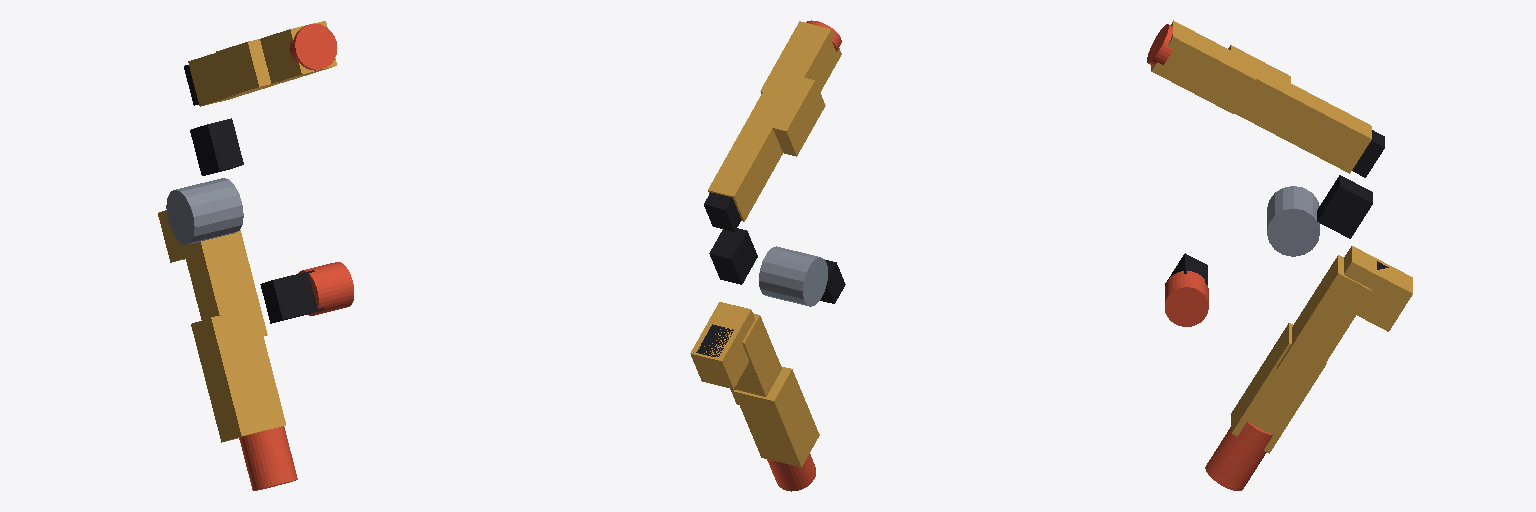
robot.urdf — g0036_c15:
<robot name="g0036_c15">
  <link name="palm">
    <visual name="palm_palm1">
      <origin xyz="0 0 0" rpy="0 0 0" />
      <geometry>
        <mesh filename="palm_palm1.obj" />
      </geometry>
      <material name="palm_palm1_mat">
        <color rgba="0.55 0.57 0.62 1" />
      </material>
    </visual>
    <collision>
      <origin xyz="0 0 0" rpy="0 0 0" />
      <geometry>
        <mesh filename="palm_palm1.obj" />
      </geometry>
    </collision>
    <visual name="palm_mount2">
      <origin xyz="0 0 0" rpy="0 0 0" />
      <geometry>
        <mesh filename="palm_mount2.obj" />
      </geometry>
      <material name="palm_mount2_mat">
        <color rgba="0.55 0.57 0.62 1" />
      </material>
    </visual>
    <collision>
      <origin xyz="0 0 0" rpy="0 0 0" />
      <geometry>
        <mesh filename="palm_mount2.obj" />
      </geometry>
    </collision>
    <visual name="palm_hinge3">
      <origin xyz="0 0.0385705081 0.0268060797" rpy="-1.57079633 0.523598776 1.57079633" />
      <geometry>
        <box size="0.029 0.034 0.02" />
      </geometry>
      <material name="palm_hinge3_mat">
        <color rgba="0.15 0.15 0.17 1" />
      </material>
    </visual>
    <collision>
      <origin xyz="0 0.0385705081 0.0268060797" rpy="-1.57079633 0.523598776 1.57079633" />
      <geometry>
        <box size="0.029 0.034 0.02" />
      </geometry>
    </collision>
    <visual name="palm_motor4">
      <origin xyz="-0.007 -0.08 -0.04" rpy="1.06057524e-16 -1.04719755 1.57079633" />
      <geometry>
        <box size="0.029 0.034 0.02" />
      </geometry>
      <material name="palm_motor4_mat">
        <color rgba="0.15 0.15 0.17 1" />
      </material>
    </visual>
    <collision>
      <origin xyz="-0.007 -0.08 -0.04" rpy="1.06057524e-16 -1.04719755 1.57079633" />
      <geometry>
        <box size="0.029 0.034 0.02" />
      </geometry>
    </collision>
    <visual name="palm_motor5">
      <origin xyz="-0.0045 0.0666996732 -0.0467548095" rpy="1.57079633 -0.523598776 -1.57079633" />
      <geometry>
        <box size="0.029 0.034 0.02" />
      </geometry>
      <material name="palm_motor5_mat">
        <color rgba="0.15 0.15 0.17 1" />
      </material>
    </visual>
    <collision>
      <origin xyz="-0.0045 0.0666996732 -0.0467548095" rpy="1.57079633 -0.523598776 -1.57079633" />
      <geometry>
        <box size="0.029 0.034 0.02" />
      </geometry>
    </collision>
    <inertial>
      <origin xyz="0 0.00398576647 -0.0188820287" rpy="-1.57079633 0.0346338555 -1.57079633" />
      <mass value="0.648313714" />
      <inertia ixx="0.000579235017" ixy="0" ixz="0" iyy="0.00134270384" iyz="0" izz="0.00185970074" />
    </inertial>
  </link>
  <link name="palm0">
    <visual name="palm0_palm1">
      <origin xyz="0 0 0" rpy="0 0 0" />
      <geometry>
        <mesh filename="palm0_palm1.obj" />
      </geometry>
      <material name="palm0_palm1_mat">
        <color rgba="0.55 0.57 0.62 1" />
      </material>
    </visual>
    <collision>
      <origin xyz="0 0 0" rpy="0 0 0" />
      <geometry>
        <mesh filename="palm0_palm1.obj" />
      </geometry>
    </collision>
    <visual name="palm0_motor2">
      <origin xyz="0 0.00417468245 0.0429487298" rpy="-1.57079633 -1.04719755 1.57079633" />
      <geometry>
        <box size="0.029 0.034 0.02" />
      </geometry>
      <material name="palm0_motor2_mat">
        <color rgba="0.15 0.15 0.17 1" />
      </material>
    </visual>
    <collision>
      <origin xyz="0 0.00417468245 0.0429487298" rpy="-1.57079633 -1.04719755 1.57079633" />
      <geometry>
        <box size="0.029 0.034 0.02" />
      </geometry>
    </collision>
    <inertial>
      <origin xyz="-8.6603943e-19 0.00464778068 0.027797697" rpy="1.57079633 0.747445546 1.57079633" />
      <mass value="0.142632811" />
      <inertia ixx="3.46447455e-05" ixy="0" ixz="0" iyy="7.18476673e-05" iyz="0" izz="9.2799663e-05" />
    </inertial>
  </link>
  <link name="f0_link0">
    <visual name="f0_link0_link1">
      <origin xyz="0.019 0 -6.9388939e-18" rpy="-1.57079633 -0 -1.57079633" />
      <geometry>
        <cylinder radius="0.0165" length="0.029" />
      </geometry>
      <material name="f0_link0_link1_mat">
        <color rgba="0.85 0.35 0.25 1" />
      </material>
    </visual>
    <collision>
      <origin xyz="0.019 0 -6.9388939e-18" rpy="-1.57079633 -0 -1.57079633" />
      <geometry>
        <cylinder radius="0.0165" length="0.029" />
      </geometry>
    </collision>
    <inertial>
      <origin xyz="0.019 0 0" rpy="0 0 0" />
      <mass value="0.0763354" />
      <inertia ixx="9.49466441e-06" ixy="0" ixz="0" iyy="2.24143997e-05" iyz="0" izz="2.24143997e-05" />
    </inertial>
  </link>
  <link name="f1_link0">
    <visual name="f1_link0_link1">
      <origin xyz="-0.00625 0 -0.0165" rpy="0 4.06369831e-17 0" />
      <geometry>
        <box size="0.0365 0.029 0.053" />
      </geometry>
      <material name="f1_link0_link1_mat">
        <color rgba="0.80 0.62 0.30 1" />
      </material>
    </visual>
    <collision>
      <origin xyz="-0.00625 0 -0.0165" rpy="0 4.06369831e-17 0" />
      <geometry>
        <box size="0.0365 0.029 0.053" />
      </geometry>
    </collision>
    <inertial>
      <origin xyz="-0.00625 0 -0.0165" rpy="0 0 0" />
      <mass value="0.098175875" />
      <inertia ixx="2.98618286e-05" ixy="0" ixz="0" iyy="3.38809035e-05" iyz="0" izz="1.778006e-05" />
    </inertial>
  </link>
  <link name="f1_link1">
    <visual name="f1_link1_link1">
      <origin xyz="0.03375 0 6.9388939e-18" rpy="0 4.06369831e-17 0" />
      <geometry>
        <box size="0.0915 0.033 0.029" />
      </geometry>
      <material name="f1_link1_link1_mat">
        <color rgba="0.80 0.62 0.30 1" />
      </material>
    </visual>
    <collision>
      <origin xyz="0.03375 0 6.9388939e-18" rpy="0 4.06369831e-17 0" />
      <geometry>
        <box size="0.0915 0.033 0.029" />
      </geometry>
    </collision>
    <inertial>
      <origin xyz="0.03375 0 0" rpy="0 0 0" />
      <mass value="0.153239625" />
      <inertia ixx="2.46460397e-05" ixy="0" ixz="0" iyy="0.000117652915" iyz="0" izz="0.000120819867" />
    </inertial>
  </link>
  <link name="f1_link2">
    <visual name="f1_link2_link1">
      <origin xyz="0.03125 -0.00625 -6.9388939e-18" rpy="0 4.06369831e-17 0" />
      <geometry>
        <box size="0.0865 0.0365 0.033" />
      </geometry>
      <material name="f1_link2_link1_mat">
        <color rgba="0.80 0.62 0.30 1" />
      </material>
    </visual>
    <collision>
      <origin xyz="0.03125 -0.00625 -6.9388939e-18" rpy="0 4.06369831e-17 0" />
      <geometry>
        <box size="0.0865 0.0365 0.033" />
      </geometry>
    </collision>
    <inertial>
      <origin xyz="0.03125 -0.00625 0" rpy="0 0 0" />
      <mass value="0.182331188" />
      <inertia ixx="3.67891156e-05" ixy="0" ixz="0" iyy="0.000130233849" iyz="0" izz="0.000133929854" />
    </inertial>
  </link>
  <link name="f1_link3">
    <visual name="f1_link3_link1">
      <origin xyz="0.02675 0 -1.38777878e-17" rpy="-1.57079633 -0 -1.57079633" />
      <geometry>
        <cylinder radius="0.0165" length="0.0535" />
      </geometry>
      <material name="f1_link3_link1_mat">
        <color rgba="0.85 0.35 0.25 1" />
      </material>
    </visual>
    <collision>
      <origin xyz="0.02675 0 -1.38777878e-17" rpy="-1.57079633 -0 -1.57079633" />
      <geometry>
        <cylinder radius="0.0165" length="0.0535" />
      </geometry>
    </collision>
    <inertial>
      <origin xyz="0.02675 0 0" rpy="0 0 0" />
      <mass value="0.113006328" />
      <inertia ixx="1.44864944e-05" ixy="0" ixz="0" iyy="6.25996244e-05" iyz="0" izz="6.25996244e-05" />
    </inertial>
  </link>
  <link name="f2_link0">
    <visual name="f2_link0_link1">
      <origin xyz="0.03375 0 0" rpy="0 7.03853194e-17 0" />
      <geometry>
        <box size="0.0915 0.024 0.033" />
      </geometry>
      <material name="f2_link0_link1_mat">
        <color rgba="0.80 0.62 0.30 1" />
      </material>
    </visual>
    <collision>
      <origin xyz="0.03375 0 0" rpy="0 7.03853194e-17 0" />
      <geometry>
        <box size="0.0915 0.024 0.033" />
      </geometry>
    </collision>
    <inertial>
      <origin xyz="0.03375 0 0" rpy="0 0 0" />
      <mass value="0.126819" />
      <inertia ixx="1.75961363e-05" ixy="0" ixz="0" iyy="9.99888553e-05" iyz="0" izz="9.45673431e-05" />
    </inertial>
  </link>
  <link name="f2_link1">
    <visual name="f2_link1_link1">
      <origin xyz="0.014 -0.00625 -1.38777878e-17" rpy="0 7.03853194e-17 0" />
      <geometry>
        <box size="0.052 0.0365 0.033" />
      </geometry>
      <material name="f2_link1_link1_mat">
        <color rgba="0.80 0.62 0.30 1" />
      </material>
    </visual>
    <collision>
      <origin xyz="0.014 -0.00625 -1.38777878e-17" rpy="0 7.03853194e-17 0" />
      <geometry>
        <box size="0.052 0.0365 0.033" />
      </geometry>
    </collision>
    <inertial>
      <origin xyz="0.014 -0.00625 0" rpy="0 0 0" />
      <mass value="0.1096095" />
      <inertia ixx="2.21160002e-05" ixy="0" ixz="0" iyy="3.46457361e-05" iyz="0" izz="3.6867612e-05" />
    </inertial>
  </link>
  <link name="f2_link2">
    <visual name="f2_link2_link1">
      <origin xyz="0.02375 0 -1.38777878e-17" rpy="0 7.03853194e-17 0" />
      <geometry>
        <box size="0.0715 0.029 0.033" />
      </geometry>
      <material name="f2_link2_link1_mat">
        <color rgba="0.80 0.62 0.30 1" />
      </material>
    </visual>
    <collision>
      <origin xyz="0.02375 0 -1.38777878e-17" rpy="0 7.03853194e-17 0" />
      <geometry>
        <box size="0.0715 0.029 0.033" />
      </geometry>
    </collision>
    <inertial>
      <origin xyz="0.02375 0 0" rpy="0 0 0" />
      <mass value="0.119744625" />
      <inertia ixx="1.92589272e-05" ixy="0" ixz="0" iyy="6.18805296e-05" iyz="0" izz="5.94058074e-05" />
    </inertial>
  </link>
  <link name="f2_link3">
    <visual name="f2_link3_link1">
      <origin xyz="0.009 0 0" rpy="-1.57079633 -0 -1.57079633" />
      <geometry>
        <cylinder radius="0.0165" length="0.009" />
      </geometry>
      <material name="f2_link3_link1_mat">
        <color rgba="0.85 0.35 0.25 1" />
      </material>
    </visual>
    <collision>
      <origin xyz="0.009 0 0" rpy="-1.57079633 -0 -1.57079633" />
      <geometry>
        <cylinder radius="0.0165" length="0.009" />
      </geometry>
    </collision>
    <inertial>
      <origin xyz="0.009 0 0" rpy="0 0 0" />
      <mass value="0.046399949" />
      <inertia ixx="5.41970115e-06" ixy="0" ixz="0" iyy="7.09430898e-06" iyz="0" izz="7.09430898e-06" />
    </inertial>
  </link>
  <joint name="palm0_joint" type="revolute">
    <parent link="palm" />
    <child link="palm0" />
    <origin xyz="0 0.0423205081 0.0333012702" rpy="0 0 0" />
    <axis xyz="0 0.866025404 -0.5" />
    <limit effort="0.5" lower="-0.523598776" upper="0.523598776" velocity="5" />
    <dynamics damping="0.0775033" friction="0" />
  </joint>
  <joint name="f0_j0" type="revolute">
    <parent link="palm" />
    <child link="f0_link0" />
    <origin xyz="0.0005 -0.08 -0.04" rpy="1.04719755 5.30287619e-17 -3.061617e-17" />
    <axis xyz="0 1 6.123234e-17" />
    <limit effort="0.5" lower="-0.523598776" upper="0.523598776" velocity="5" />
    <dynamics damping="0.0775033" friction="0" />
  </joint>
  <joint name="f1_j0" type="revolute">
    <parent link="palm" />
    <child link="f1_link0" />
    <origin xyz="-0.0045 0.04 -0.04" rpy="0 1.04719755 -1.57079633" />
    <axis xyz="0 0 1" />
    <limit effort="0.5" lower="-0.523598776" upper="1.57079633" velocity="5" />
    <dynamics damping="0.0775033" friction="0" />
  </joint>
  <joint name="f1_j1" type="revolute">
    <parent link="f1_link0" />
    <child link="f1_link1" />
    <origin xyz="0 0 0" rpy="0 0 0" />
    <axis xyz="0 1 6.123234e-17" />
    <limit effort="0.5" lower="-0.523598776" upper="0.523598776" velocity="5" />
    <dynamics damping="0.0775033" friction="0" />
  </joint>
  <joint name="f1_j2" type="revolute">
    <parent link="f1_link1" />
    <child link="f1_link2" />
    <origin xyz="0.07 0 0" rpy="0 0 0" />
    <axis xyz="0 0 1" />
    <limit effort="0.5" lower="-0.523598776" upper="1.57079633" velocity="5" />
    <dynamics damping="0.0775033" friction="0" />
  </joint>
  <joint name="f1_j3" type="revolute">
    <parent link="f1_link2" />
    <child link="f1_link3" />
    <origin xyz="0.06 0 0" rpy="0 0 0" />
    <axis xyz="1 0 6.123234e-17" />
    <limit effort="0.5" lower="-1.57079633" upper="1.57079633" velocity="5" />
    <dynamics damping="0.0775033" friction="0" />
  </joint>
  <joint name="f2_j0" type="revolute">
    <parent link="palm0" />
    <child link="f2_link0" />
    <origin xyz="0 -0.00232050808 0.0466987298" rpy="-0 -0.523598776 -1.57079633" />
    <axis xyz="0 0 1" />
    <limit effort="0.5" lower="-0.523598776" upper="1.57079633" velocity="5" />
    <dynamics damping="0.0775033" friction="0" />
  </joint>
  <joint name="f2_j1" type="revolute">
    <parent link="f2_link0" />
    <child link="f2_link1" />
    <origin xyz="0.07 0 0" rpy="0 0 0" />
    <axis xyz="0 0 1" />
    <limit effort="0.5" lower="-0.523598776" upper="1.57079633" velocity="5" />
    <dynamics damping="0.0775033" friction="0" />
  </joint>
  <joint name="f2_j2" type="revolute">
    <parent link="f2_link1" />
    <child link="f2_link2" />
    <origin xyz="0.03 0 0" rpy="0 0 0" />
    <axis xyz="0 0 1" />
    <limit effort="0.5" lower="-0.523598776" upper="1.57079633" velocity="5" />
    <dynamics damping="0.0775033" friction="0" />
  </joint>
  <joint name="f2_j3" type="revolute">
    <parent link="f2_link2" />
    <child link="f2_link3" />
    <origin xyz="0.05 0 0" rpy="0 0 0" />
    <axis xyz="-0 -1 -6.123234e-17" />
    <limit effort="0.5" lower="-0.523598776" upper="0.523598776" velocity="5" />
    <dynamics damping="0.0775033" friction="0" />
  </joint>
</robot>

--- What the picture shows (computed from the rendered views, not written in the file) ---
Views: 3 orthographic renders of the robot side by side, from view 1: azimuth 30°, elevation 25°; view 2: azimuth 150°, elevation 25°; view 3: azimuth 270°, elevation 25°.
Model g0036_c15 with 11 links and 10 joints (10 revolute), rooted at palm, posed every joint at zero.
Visible links, largest first — view 1: f1_link2, palm, f1_link1, f1_link3, f2_link1, f0_link0, f2_link2, f2_link3, f2_link0, f1_link0; view 2: palm, f1_link2, f2_link0, f2_link2, f1_link0, f2_link1, f1_link1, f1_link3, palm0; view 3: palm, f2_link0, f1_link1, f2_link2, f1_link2, f1_link0, f1_link3, f0_link0, f2_link1, palm0, f2_link3.
Link boxes in pixels (x1,y1,x2,y2): f1_link2: (191, 307, 285, 442); palm: (166, 118, 324, 323); f1_link1: (182, 230, 267, 335); f1_link3: (239, 426, 297, 490); f2_link1: (216, 39, 286, 96); f0_link0: (298, 262, 353, 315); f2_link2: (260, 21, 336, 87); f2_link3: (290, 24, 336, 70); f2_link0: (188, 53, 283, 106); f1_link0: (158, 210, 185, 262); palm: (696, 228, 845, 356); f1_link2: (734, 366, 819, 467); f2_link0: (708, 100, 783, 221); f2_link2: (760, 21, 841, 98); f1_link0: (690, 302, 754, 388); f2_link1: (746, 78, 825, 156); f1_link1: (730, 313, 781, 404); f1_link3: (767, 454, 815, 491); palm0: (704, 192, 741, 231); palm: (1165, 175, 1388, 285); f2_link0: (1244, 71, 1371, 173); f1_link1: (1277, 255, 1371, 386); f2_link2: (1151, 20, 1255, 113); f1_link2: (1231, 323, 1326, 453); f1_link0: (1344, 246, 1412, 331); f1_link3: (1205, 422, 1272, 490); f0_link0: (1165, 271, 1208, 326); f2_link1: (1228, 45, 1290, 129); palm0: (1352, 130, 1384, 177); f2_link3: (1147, 24, 1172, 65).
Size in the robot's own frame: 0.086 by 0.1993 by 0.3832 metres.
Meshes: 3 distinct files referenced, 1 mesh visuals loaded (1 OBJ); not drawn: 2 (reference not matched to a file when rendering).
